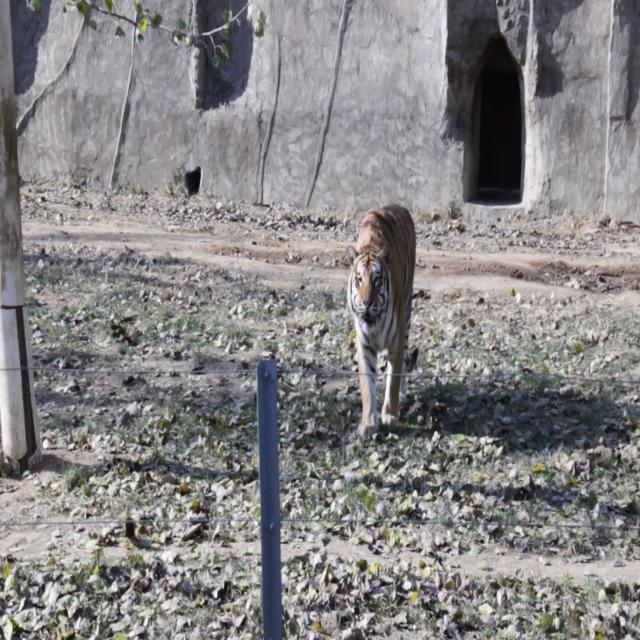Tiger: (332, 168, 440, 462)
